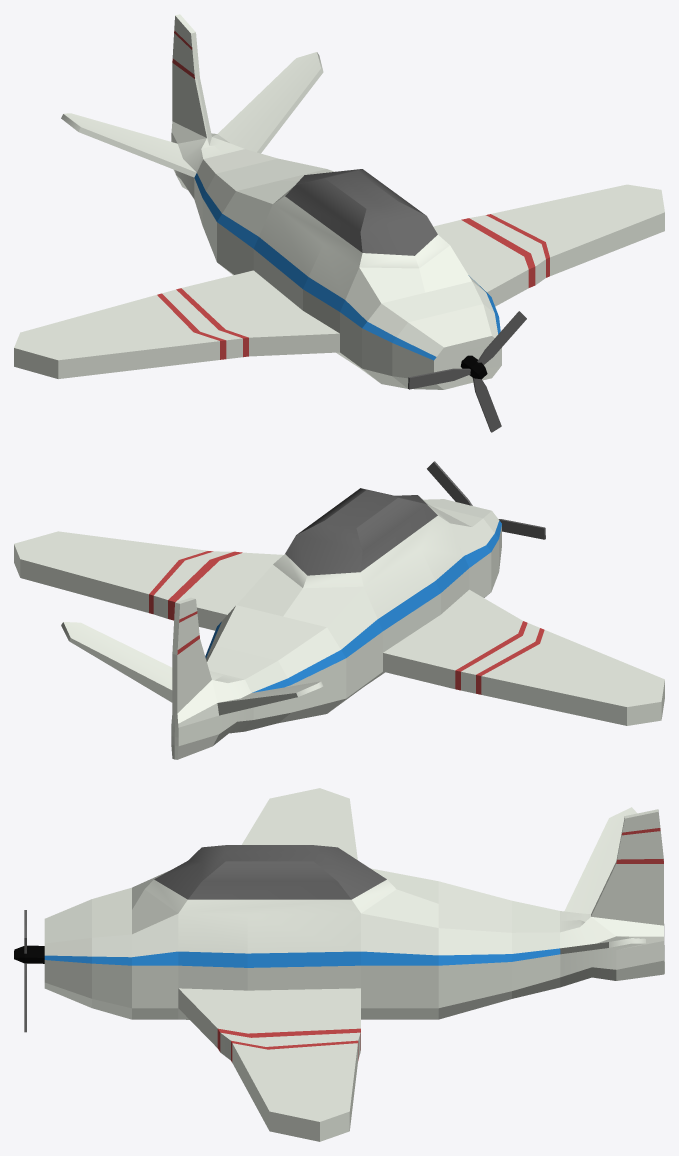
File: fixed_animated_plane_model.fbx
3 renders of one model, top to bottom at view 1: azimuth 30°, elevation 25°; view 2: azimuth 150°, elevation 25°; view 3: azimuth 270°, elevation 25°, orthographic. The views are drawn at different scales.
Visible parts, largest first — view 1: plane_body, plane_propeller; view 2: plane_body, plane_propeller; view 3: plane_body, plane_propeller.
Part boxes in pixels (x1=…): plane_body: x1=14, y1=14, x2=664, y2=389; plane_propeller: x1=408, y1=311, x2=526, y2=432; plane_body: x1=14, y1=488, x2=664, y2=759; plane_propeller: x1=427, y1=461, x2=545, y2=539; plane_body: x1=44, y1=788, x2=664, y2=1141; plane_propeller: x1=14, y1=910, x2=44, y2=1032.
Size of the model in its own units: 8.41 by 2.51 by 6.93.
Materials: 1 (1 with a texture image).
